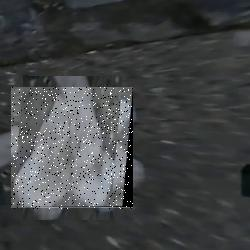restaffald: (11, 88, 133, 210)
